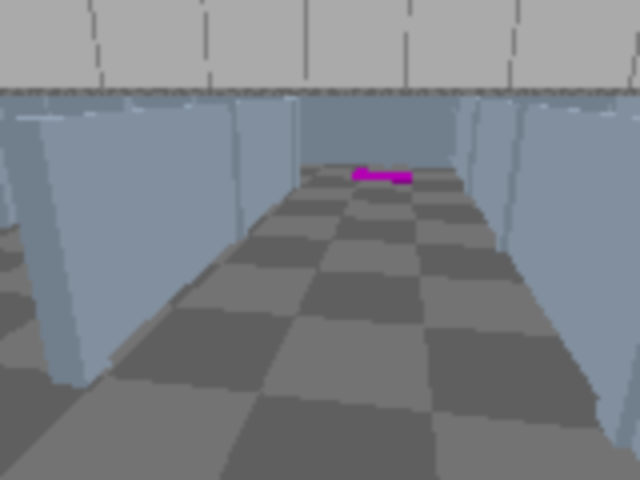goal_zone: (350, 170, 413, 183)
